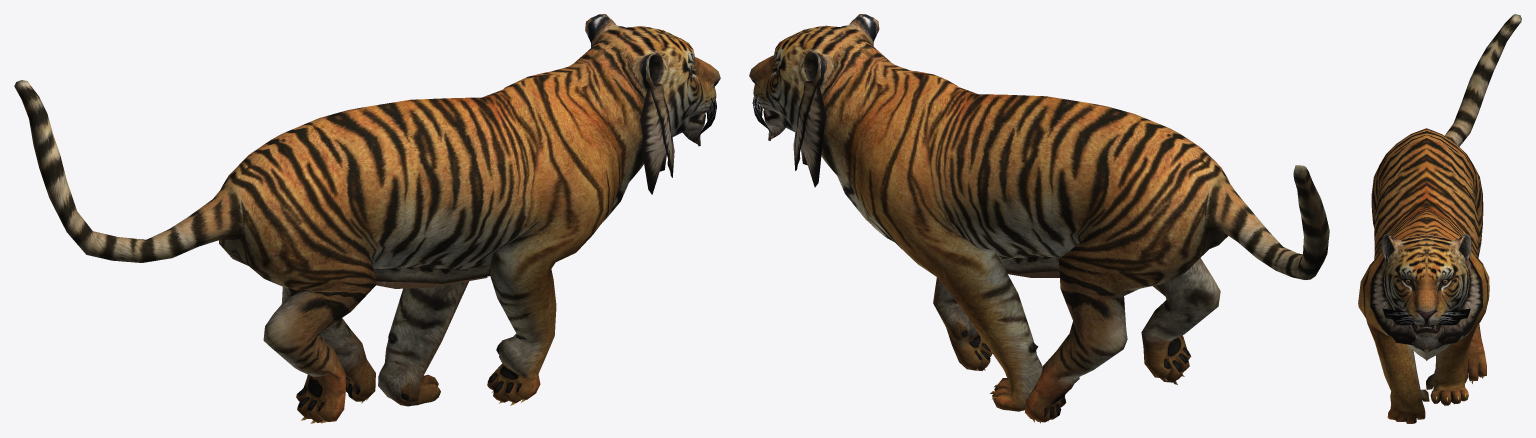
Rendered from tiger.obj.
The picture shows the model from 3 angles, left to right: view 1: azimuth 30°, elevation 25°; view 2: azimuth 150°, elevation 25°; view 3: azimuth 270°, elevation 25°; orthographic projection. The views are drawn at different scales.
Visible parts, largest first — view 1: tiger; view 2: tiger; view 3: tiger.
Part boxes in pixels (x1,y1,x2,y2): tiger: [14, 14, 720, 423]; tiger: [749, 14, 1329, 423]; tiger: [1358, 14, 1521, 423].
Size of the model in its own units: 100 by 54.83 by 30.61.
Materials: 1 (1 with a texture image).
